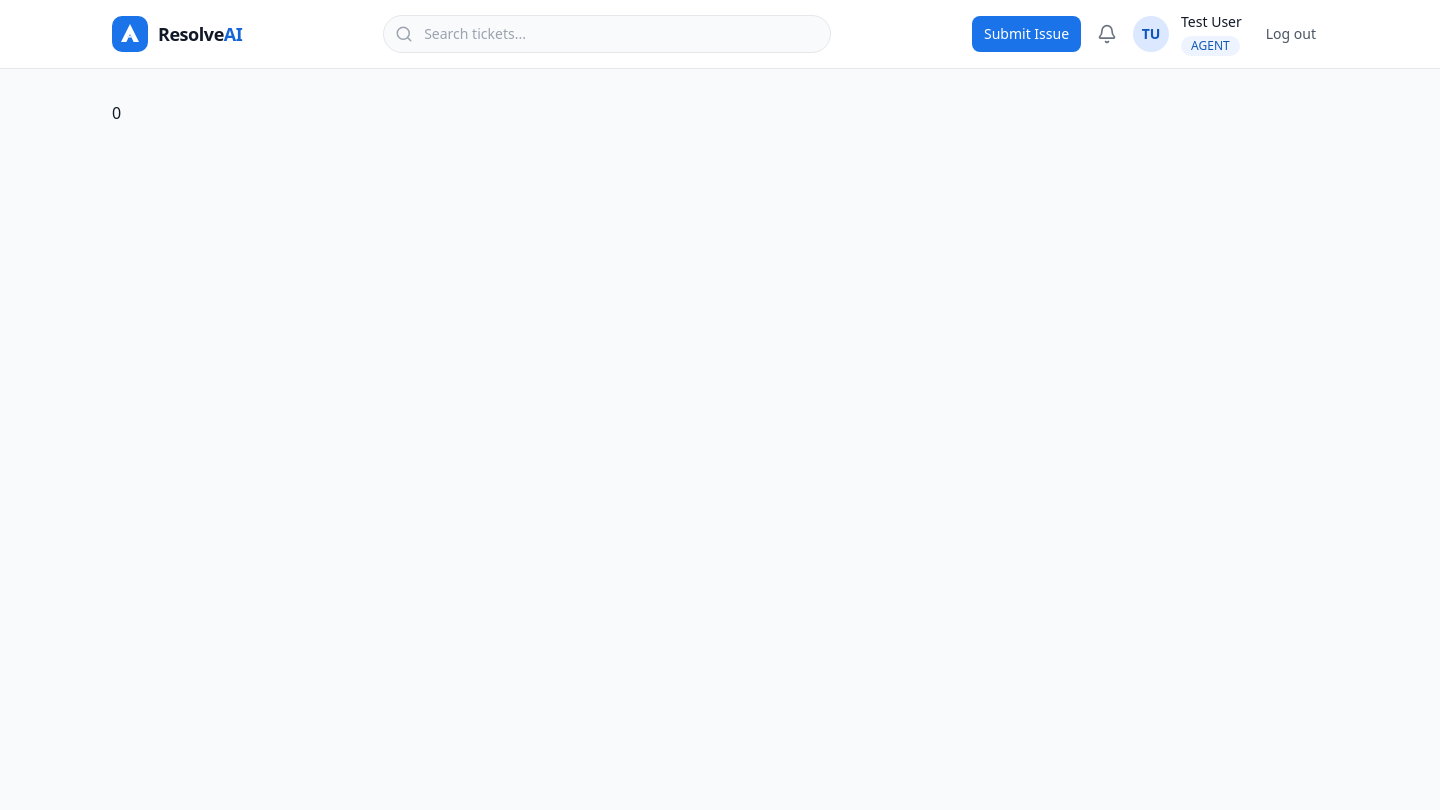
Scenario: AppLayout submit flow › opens the submission modal from the navbar button
This screenshot has width=1440, height=810.
Click the button "Submit Issue" at (1027, 34), box [972, 16, 1081, 52]
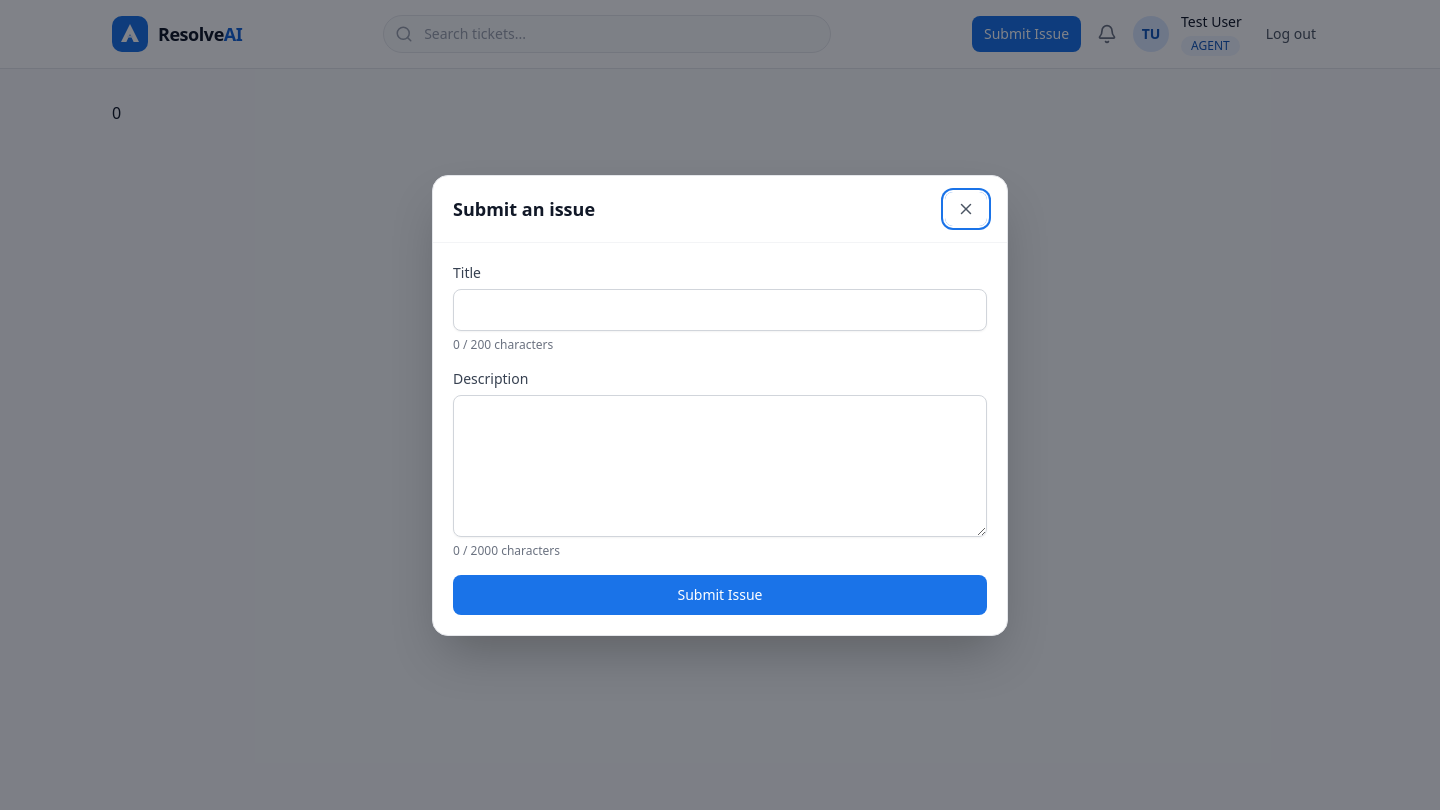
Result: the dialog "Submit an issue" is shown at [432, 174, 1008, 636]
